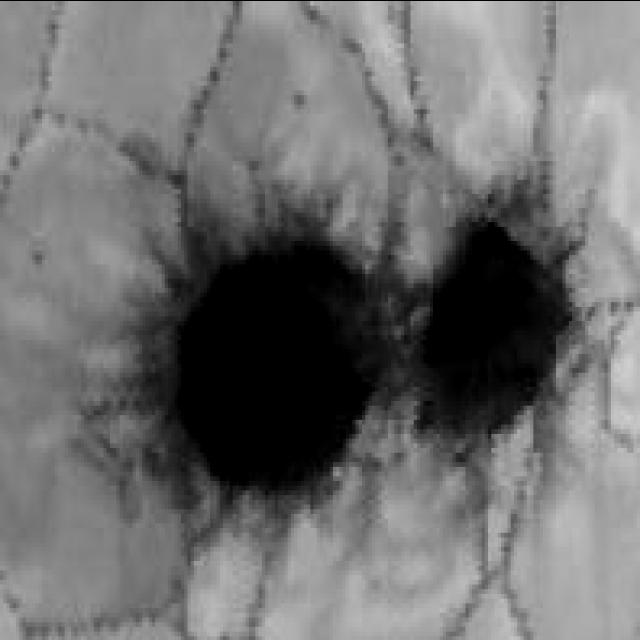good_void: (81, 181, 408, 532), (410, 185, 592, 465), (31, 243, 45, 267), (293, 91, 305, 110)
